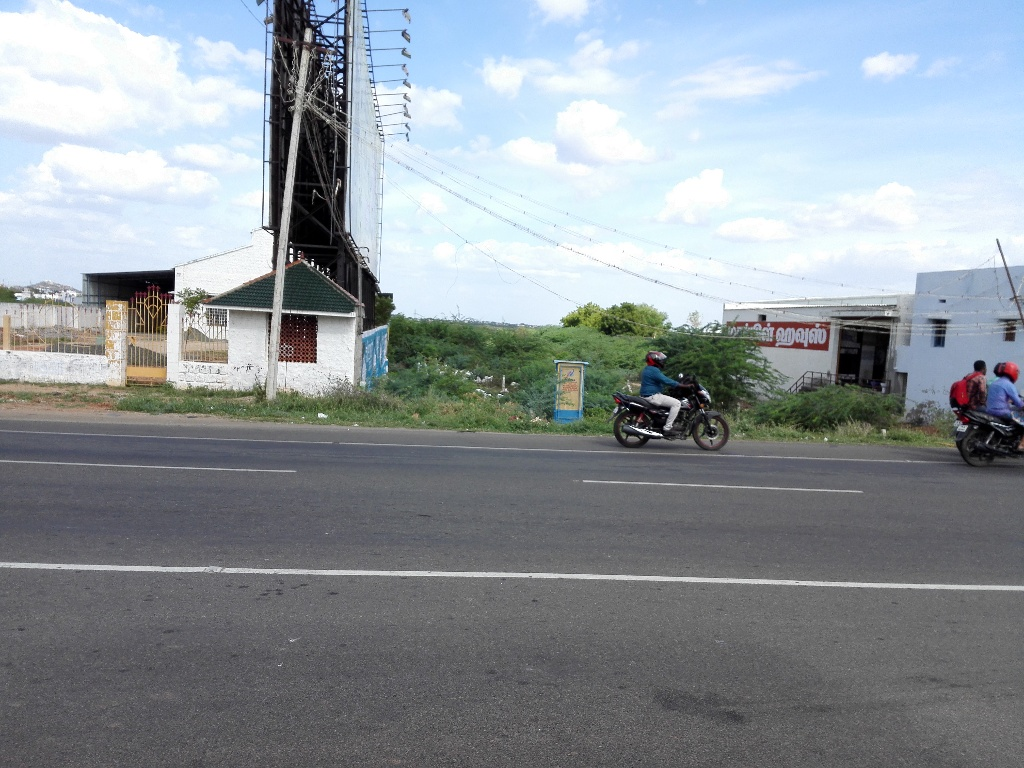biker: (603, 327, 737, 460), (938, 335, 1024, 477)
helmet: (640, 340, 677, 381), (992, 351, 1021, 388)
nohelmet: (970, 352, 990, 382)
